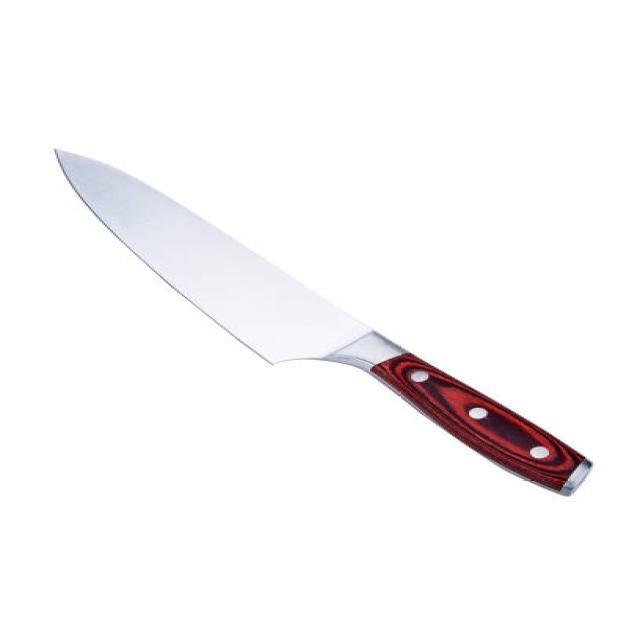knife: (40, 139, 604, 503)
